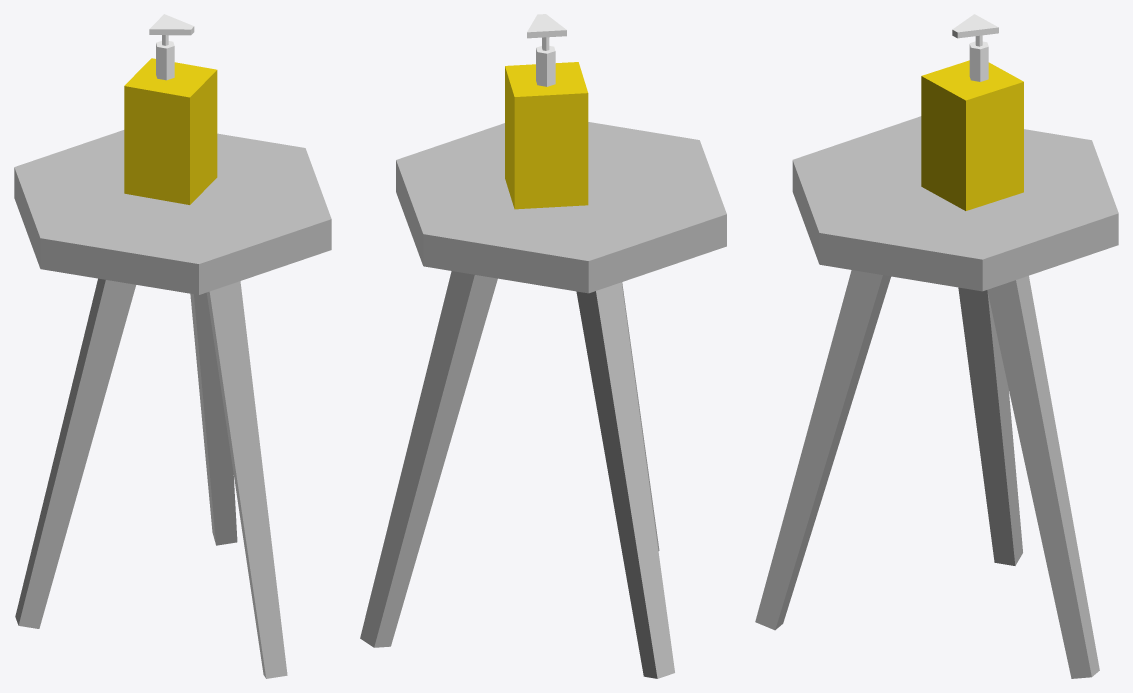
File: s_tabure.obj
3 renders of one model, left to right at view 1: azimuth 30°, elevation 25°; view 2: azimuth 150°, elevation 25°; view 3: azimuth 270°, elevation 25°, orthographic. The views are drawn at different scales.
Parts seen in each view (by area): view 1: chair.009_m_blue, liquid_soap.009_m_yellow, liquid_soap.009_m_white; view 2: chair.009_m_blue, liquid_soap.009_m_yellow, liquid_soap.009_m_white; view 3: chair.009_m_blue, liquid_soap.009_m_yellow, liquid_soap.009_m_white.
Part boxes in pixels (<box>): chair.009_m_blue: <box>14,130,331,678</box>; liquid_soap.009_m_yellow: <box>124,58,217,204</box>; liquid_soap.009_m_white: <box>149,14,194,80</box>; chair.009_m_blue: <box>360,122,726,678</box>; liquid_soap.009_m_yellow: <box>505,62,588,209</box>; liquid_soap.009_m_white: <box>527,14,566,86</box>; chair.009_m_blue: <box>755,116,1118,678</box>; liquid_soap.009_m_yellow: <box>921,60,1023,210</box>; liquid_soap.009_m_white: <box>952,14,998,81</box>.
Size of the model in its own units: 7.5 by 14.33 by 7.88.
